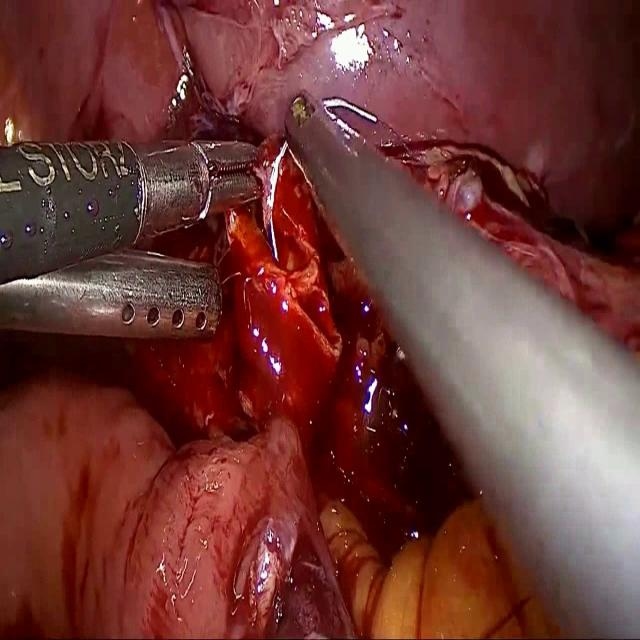surgical-tool: (282, 85, 640, 639), (0, 137, 264, 281), (0, 249, 222, 342)
